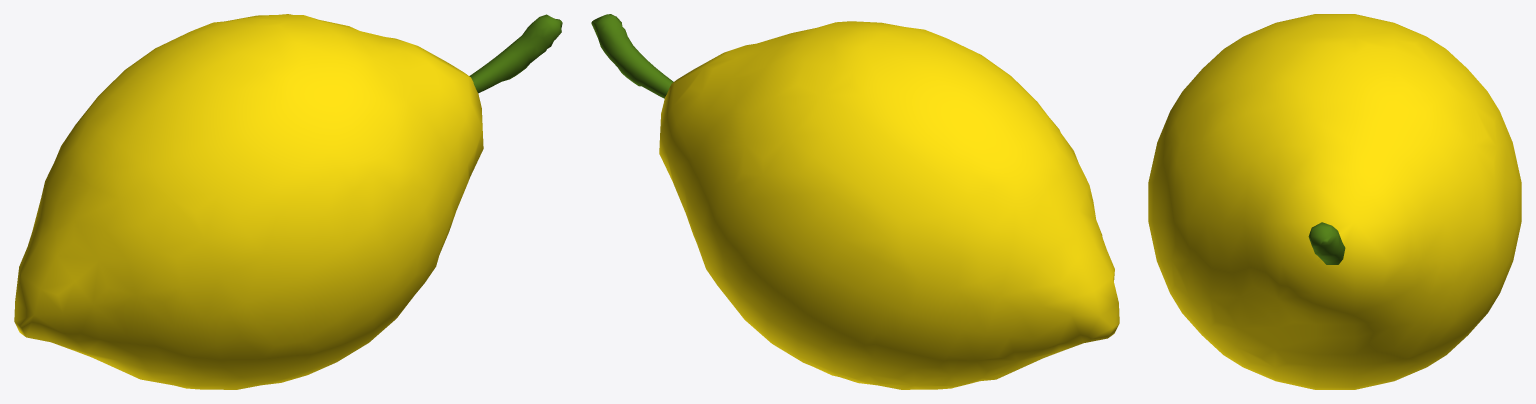
Rendered from lemon.glb.
3 renders of one model, left to right at view 1: azimuth 30°, elevation 25°; view 2: azimuth 150°, elevation 25°; view 3: azimuth 270°, elevation 25°, orthographic. The views are drawn at different scales.
Parts seen in each view (by area): view 1: Sphere_032_Sphere_035; view 2: Sphere_032_Sphere_035; view 3: Sphere_032_Sphere_035.
Part boxes in pixels (bbox=[...]): Sphere_032_Sphere_035: bbox=[14, 14, 562, 389]; Sphere_032_Sphere_035: bbox=[591, 14, 1119, 389]; Sphere_032_Sphere_035: bbox=[1148, 14, 1521, 389].
Bounding box in the file's own units: 1.91 × 1.12 × 1.1.
